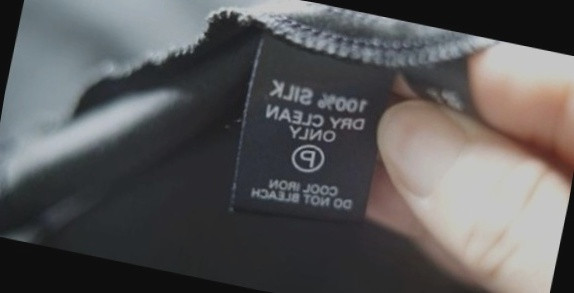dry_clean_any_solvent_except_trichloroethylene: (287, 139, 327, 176)
